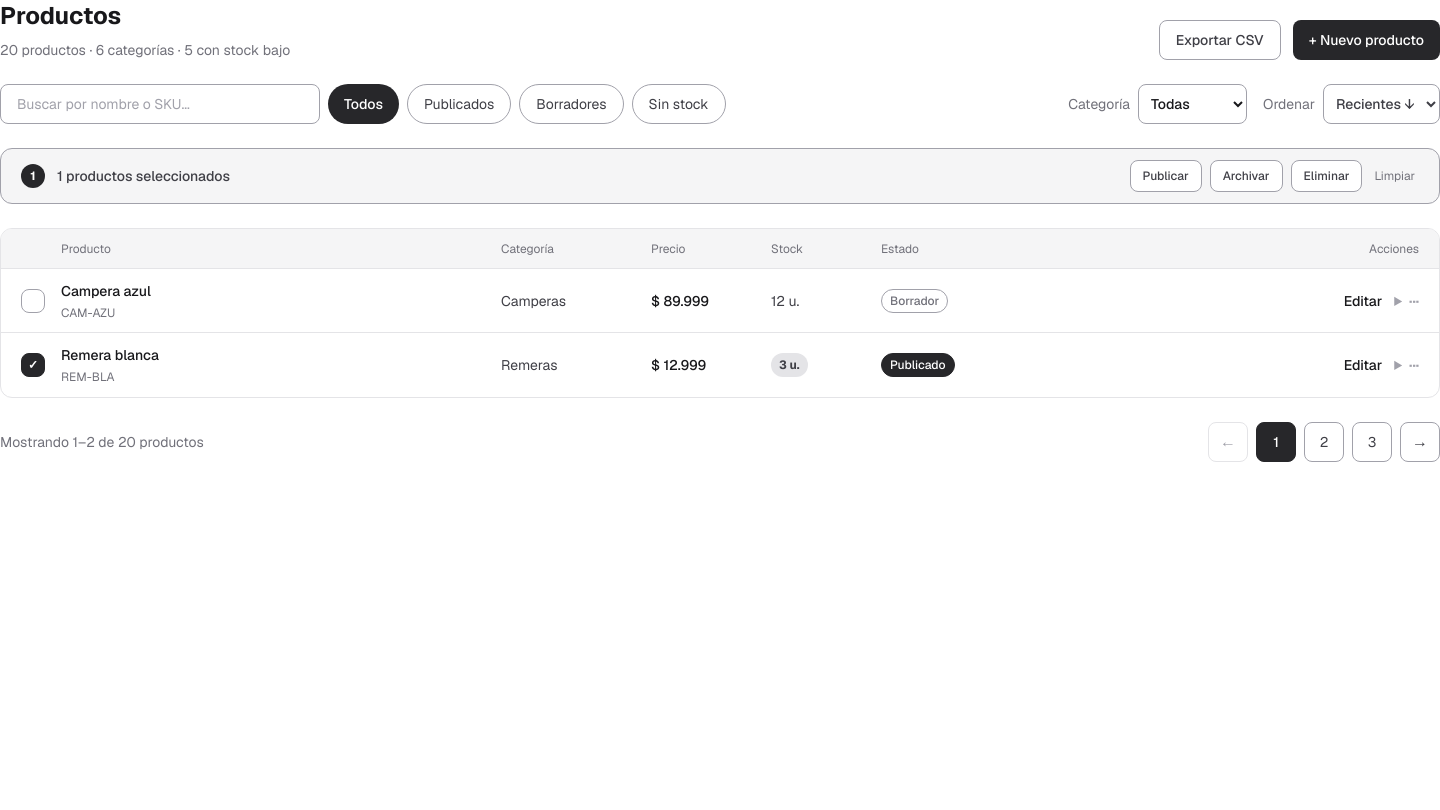
Test case: AdminProductsWorkspace › adds and removes image references inside the product modal
Later steps or results of the test are not shown.
Step 1. Click the button "+ Nuevo producto" → (1366,40), box [1293,20,1439,60]
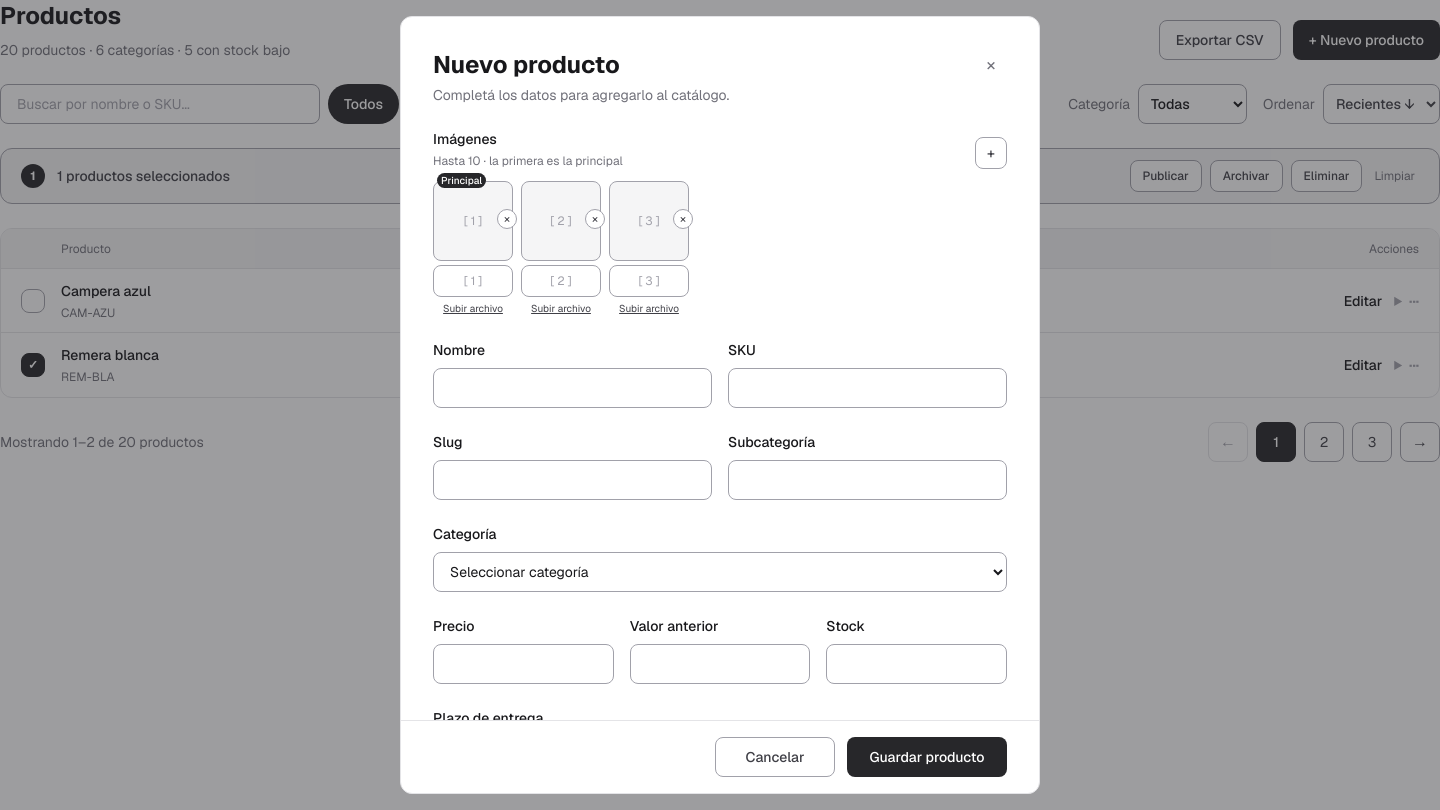
Now the text "Hasta 10 · la primera es la principal" is shown, box [433,153,623,169]
Now the number of fields labelled "[ 1 ]" is 3, box [433,265,513,297]; [521,265,601,297]; [609,265,689,297]
Now the text "Principal" is shown, box [437,173,486,188]
Step 2. Click the button named "Agregar imagen" → (991,153), box [975,137,1007,169]
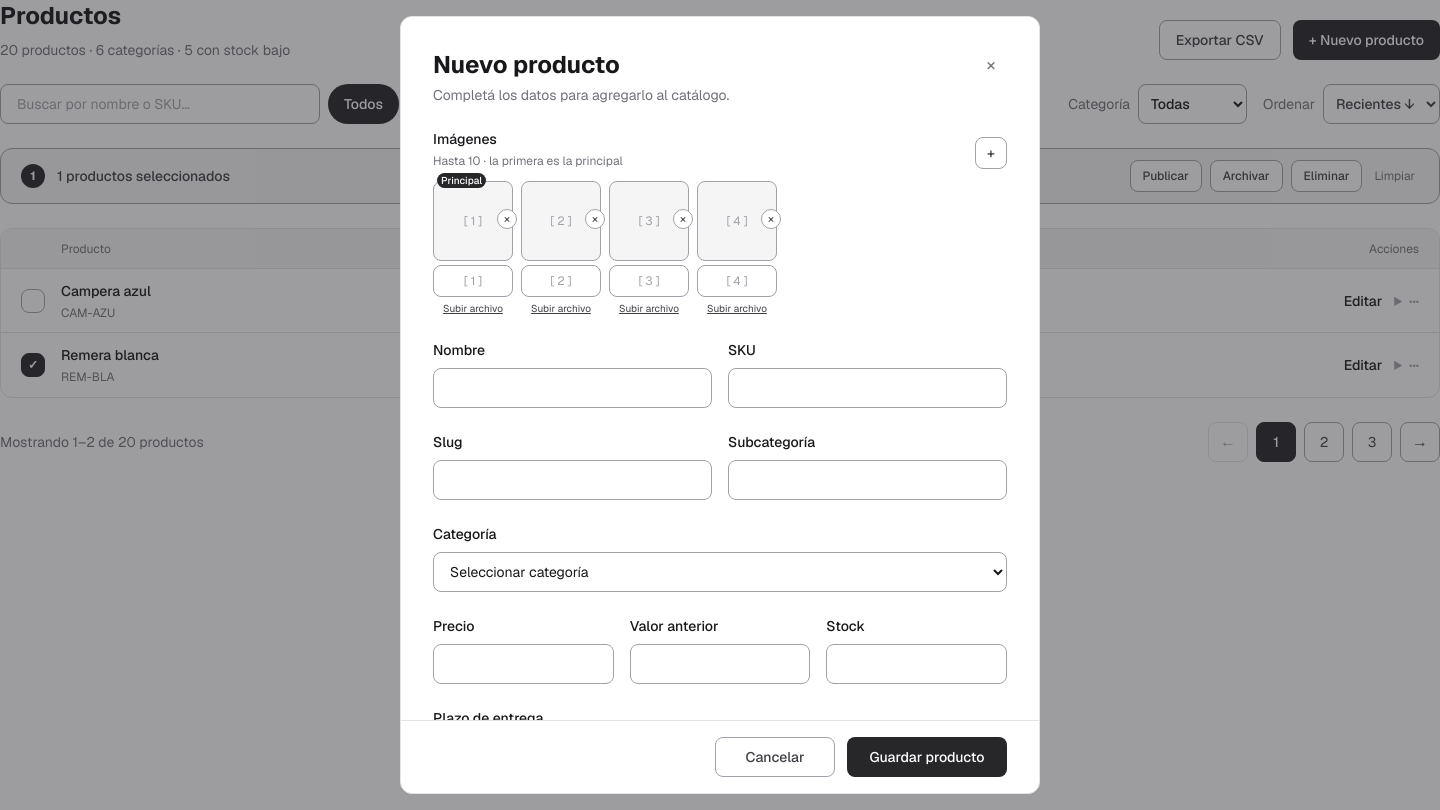
Now the number of fields labelled "[ 1 ]" is 4, box [433,265,513,297]; [521,265,601,297]; [609,265,689,297]; [697,265,777,297]
